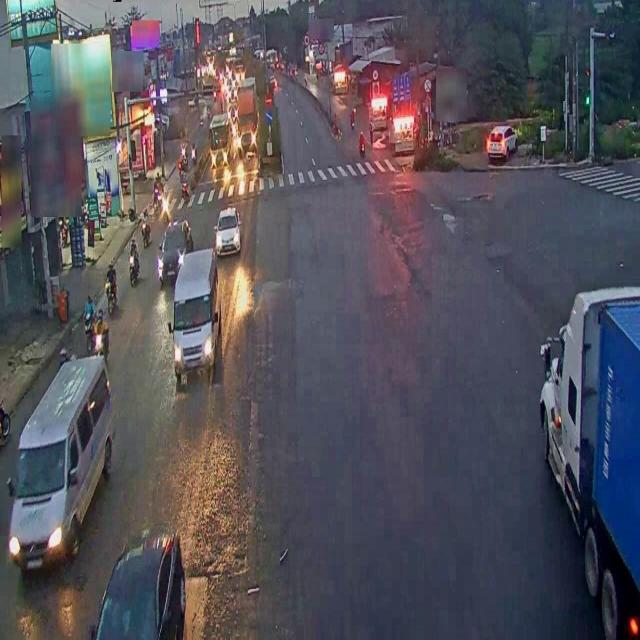car: (157, 217, 190, 281), (213, 202, 241, 259)
truck: (537, 283, 639, 626), (9, 353, 114, 567), (172, 247, 218, 379)
